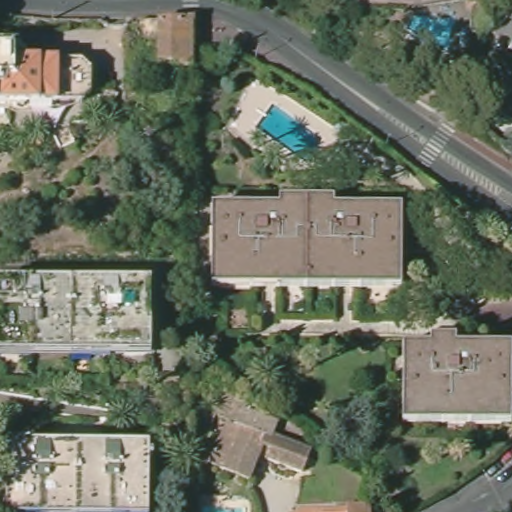pool: (255, 105, 322, 158), (406, 11, 466, 51)
